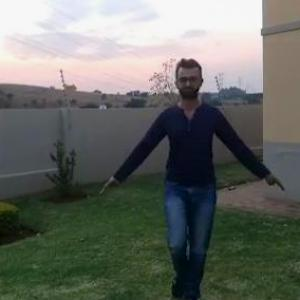land: (110, 58, 277, 282)
